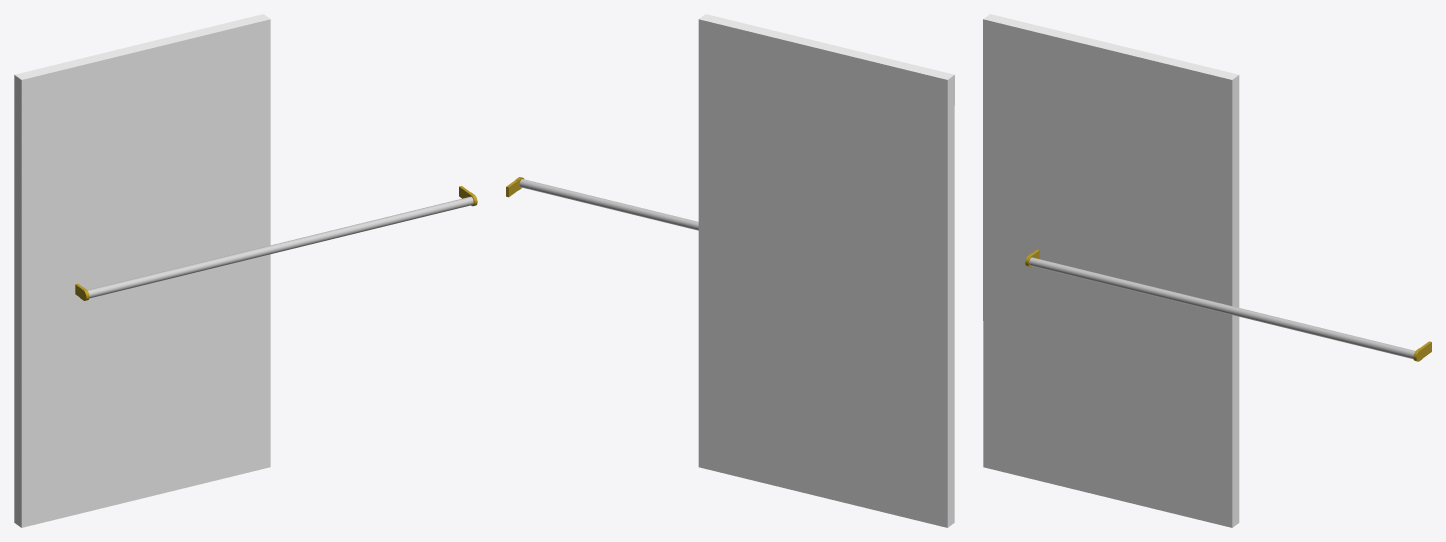
File: Cabinet_7b612f17.obj
3 views of the same model, side by side, from view 1: azimuth 30°, elevation 25°; view 2: azimuth 150°, elevation 25°; view 3: azimuth 330°, elevation 25° (orthographic).
Parts seen in each view (by area): view 1: FP408:Door3_f06fe29e, handle_2_600mm_01_eddad479; view 2: FP408:Door3_f06fe29e, handle_2_600mm_01_eddad479; view 3: FP408:Door3_f06fe29e, handle_2_600mm_01_eddad479.
Part boxes in pixels (left/top/right/bottom): FP408:Door3_f06fe29e: left=14, top=14, right=270, bottom=527; handle_2_600mm_01_eddad479: left=75, top=186, right=477, bottom=300; FP408:Door3_f06fe29e: left=698, top=14, right=954, bottom=527; handle_2_600mm_01_eddad479: left=506, top=177, right=698, bottom=230; FP408:Door3_f06fe29e: left=983, top=14, right=1239, bottom=527; handle_2_600mm_01_eddad479: left=1025, top=250, right=1431, bottom=361.
Size of the model in its own units: 0.682 by 0.6566 by 0.0492.
